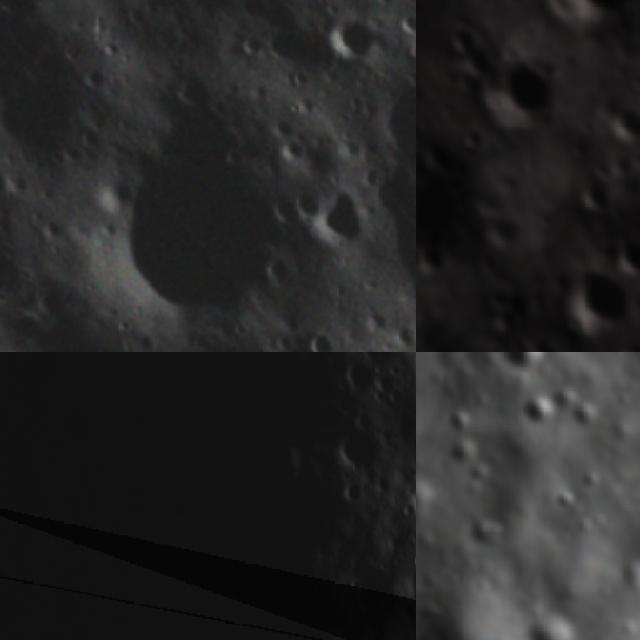crater: (50, 87, 337, 352), (295, 173, 390, 269), (354, 57, 416, 194), (474, 48, 568, 130), (310, 0, 397, 77), (559, 265, 632, 342), (532, 0, 640, 35), (331, 418, 387, 470), (570, 175, 621, 223), (522, 605, 576, 640), (606, 96, 640, 145), (517, 392, 565, 426), (340, 352, 380, 391), (442, 24, 482, 61), (299, 325, 345, 352), (0, 156, 21, 211), (617, 228, 640, 274), (494, 352, 560, 368), (549, 484, 583, 511), (460, 119, 486, 151), (407, 478, 416, 516), (416, 243, 426, 276)
